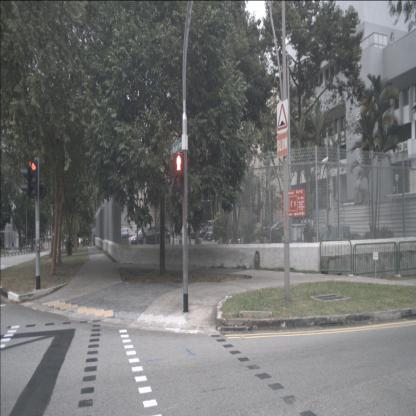human-pedestrian-adult: (12, 242, 14, 251), (6, 243, 7, 252)
movable_object-barrier: (42, 242, 49, 250), (49, 243, 53, 250)
vehicle-car: (130, 226, 170, 248), (206, 223, 230, 240), (199, 222, 222, 239), (119, 228, 136, 242)
